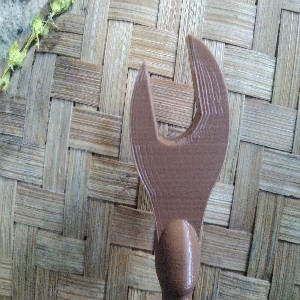spanner: (128, 33, 230, 300)
